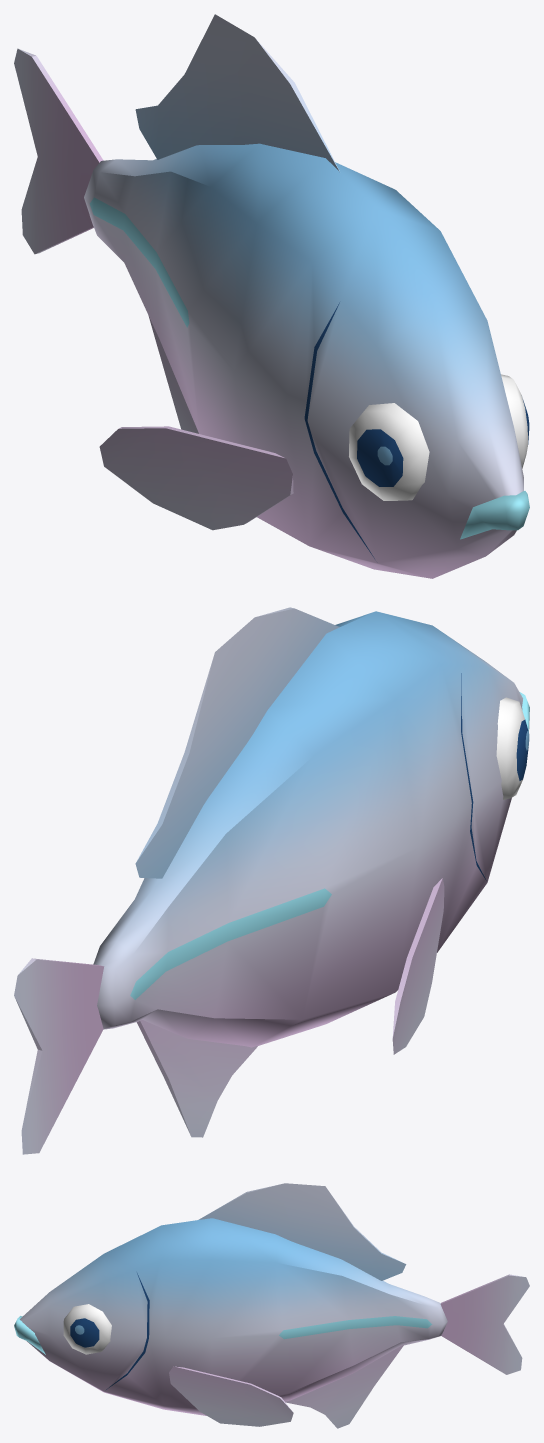
3 renders of one model, top to bottom at view 1: azimuth 30°, elevation 25°; view 2: azimuth 150°, elevation 25°; view 3: azimuth 270°, elevation 25°, orthographic. The views are drawn at different scales.
Parts seen in each view (by area): view 1: Fish_Bitterling; view 2: Fish_Bitterling; view 3: Fish_Bitterling.
Boxes of the visible parts, box(x1,y1,x2,y2) form: Fish_Bitterling: box(14, 14, 529, 578); Fish_Bitterling: box(14, 607, 529, 1154); Fish_Bitterling: box(14, 1183, 529, 1428).
Size of the model in its own units: 9.11 by 14.33 by 27.29.
